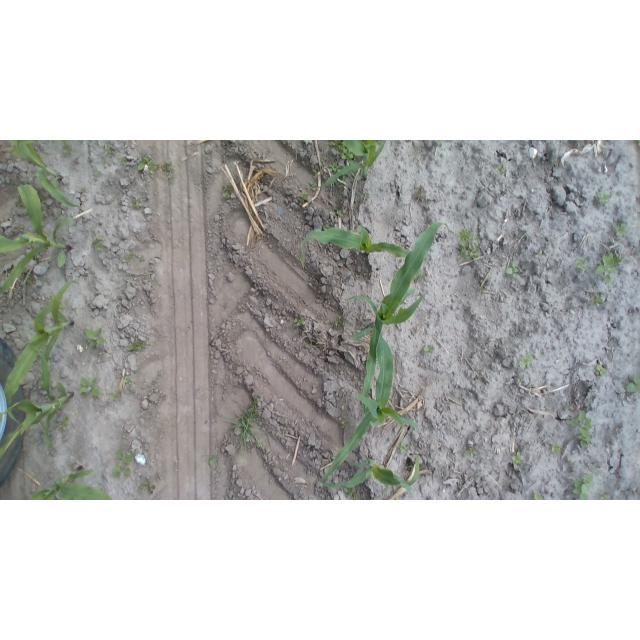Maize: (348, 222, 452, 415), (319, 332, 420, 482), (5, 278, 75, 422), (1, 345, 74, 460), (1, 184, 72, 294), (299, 221, 410, 268), (8, 140, 82, 209), (323, 453, 419, 500), (314, 140, 386, 190), (27, 469, 113, 500)
Weeds: (226, 397, 271, 452), (568, 409, 592, 445), (597, 253, 624, 285), (459, 230, 482, 261), (572, 472, 593, 498), (113, 450, 132, 477), (331, 141, 354, 159), (85, 328, 105, 348), (80, 377, 99, 395), (139, 156, 158, 172), (139, 479, 157, 494), (627, 373, 640, 393), (162, 161, 176, 179), (613, 222, 628, 237), (127, 340, 145, 352), (519, 354, 533, 369), (505, 261, 518, 277), (60, 140, 74, 154), (512, 451, 525, 465), (599, 191, 611, 204), (327, 161, 342, 171), (102, 144, 114, 155), (576, 258, 587, 270), (60, 415, 69, 429), (596, 365, 606, 377), (400, 442, 409, 455), (593, 295, 604, 305), (113, 388, 122, 400), (551, 444, 562, 453), (496, 165, 505, 176), (335, 315, 343, 327), (209, 454, 217, 466), (344, 488, 356, 496), (223, 186, 230, 199), (469, 446, 478, 456), (295, 319, 306, 327), (341, 420, 350, 429), (424, 345, 434, 353), (300, 192, 309, 200), (120, 157, 127, 167), (135, 199, 142, 209), (93, 237, 106, 242), (16, 199, 23, 207), (338, 210, 345, 218), (600, 494, 611, 499), (126, 252, 133, 259), (534, 493, 541, 500), (67, 462, 76, 467), (27, 277, 33, 284), (126, 376, 133, 382), (97, 246, 103, 251), (636, 140, 640, 146), (436, 140, 445, 142)
